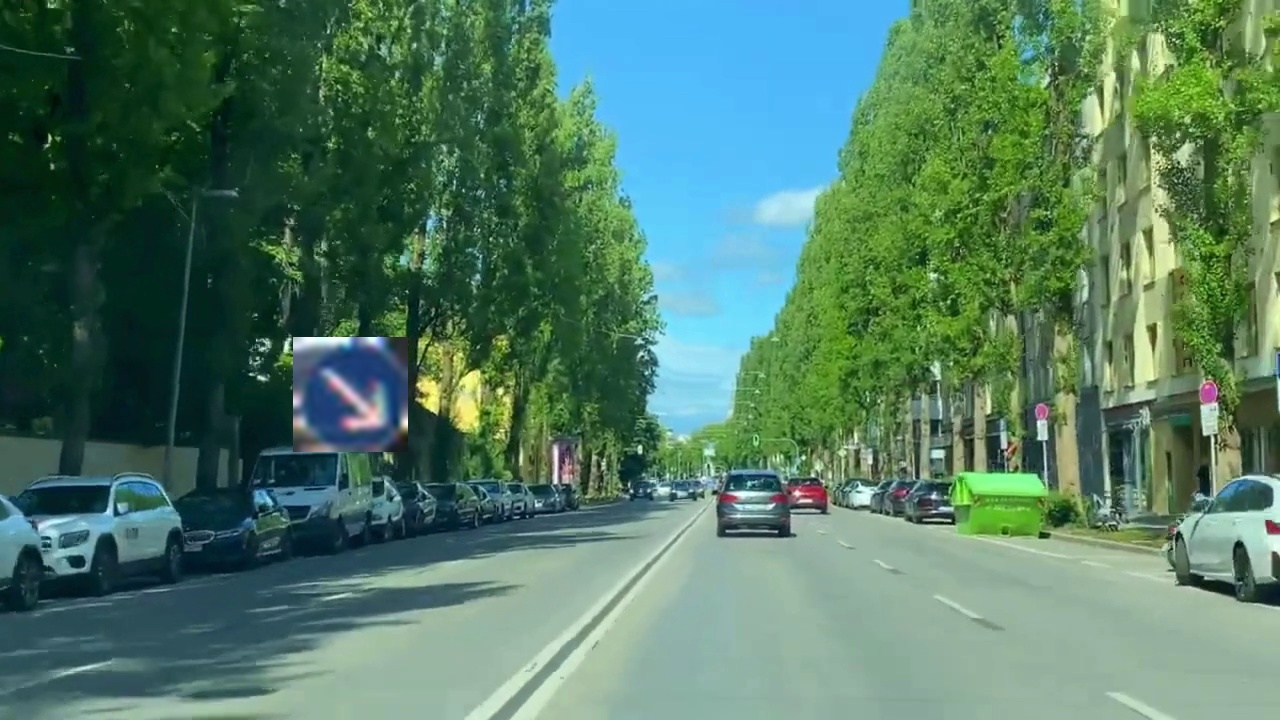Keep right: (293, 337, 408, 452)
